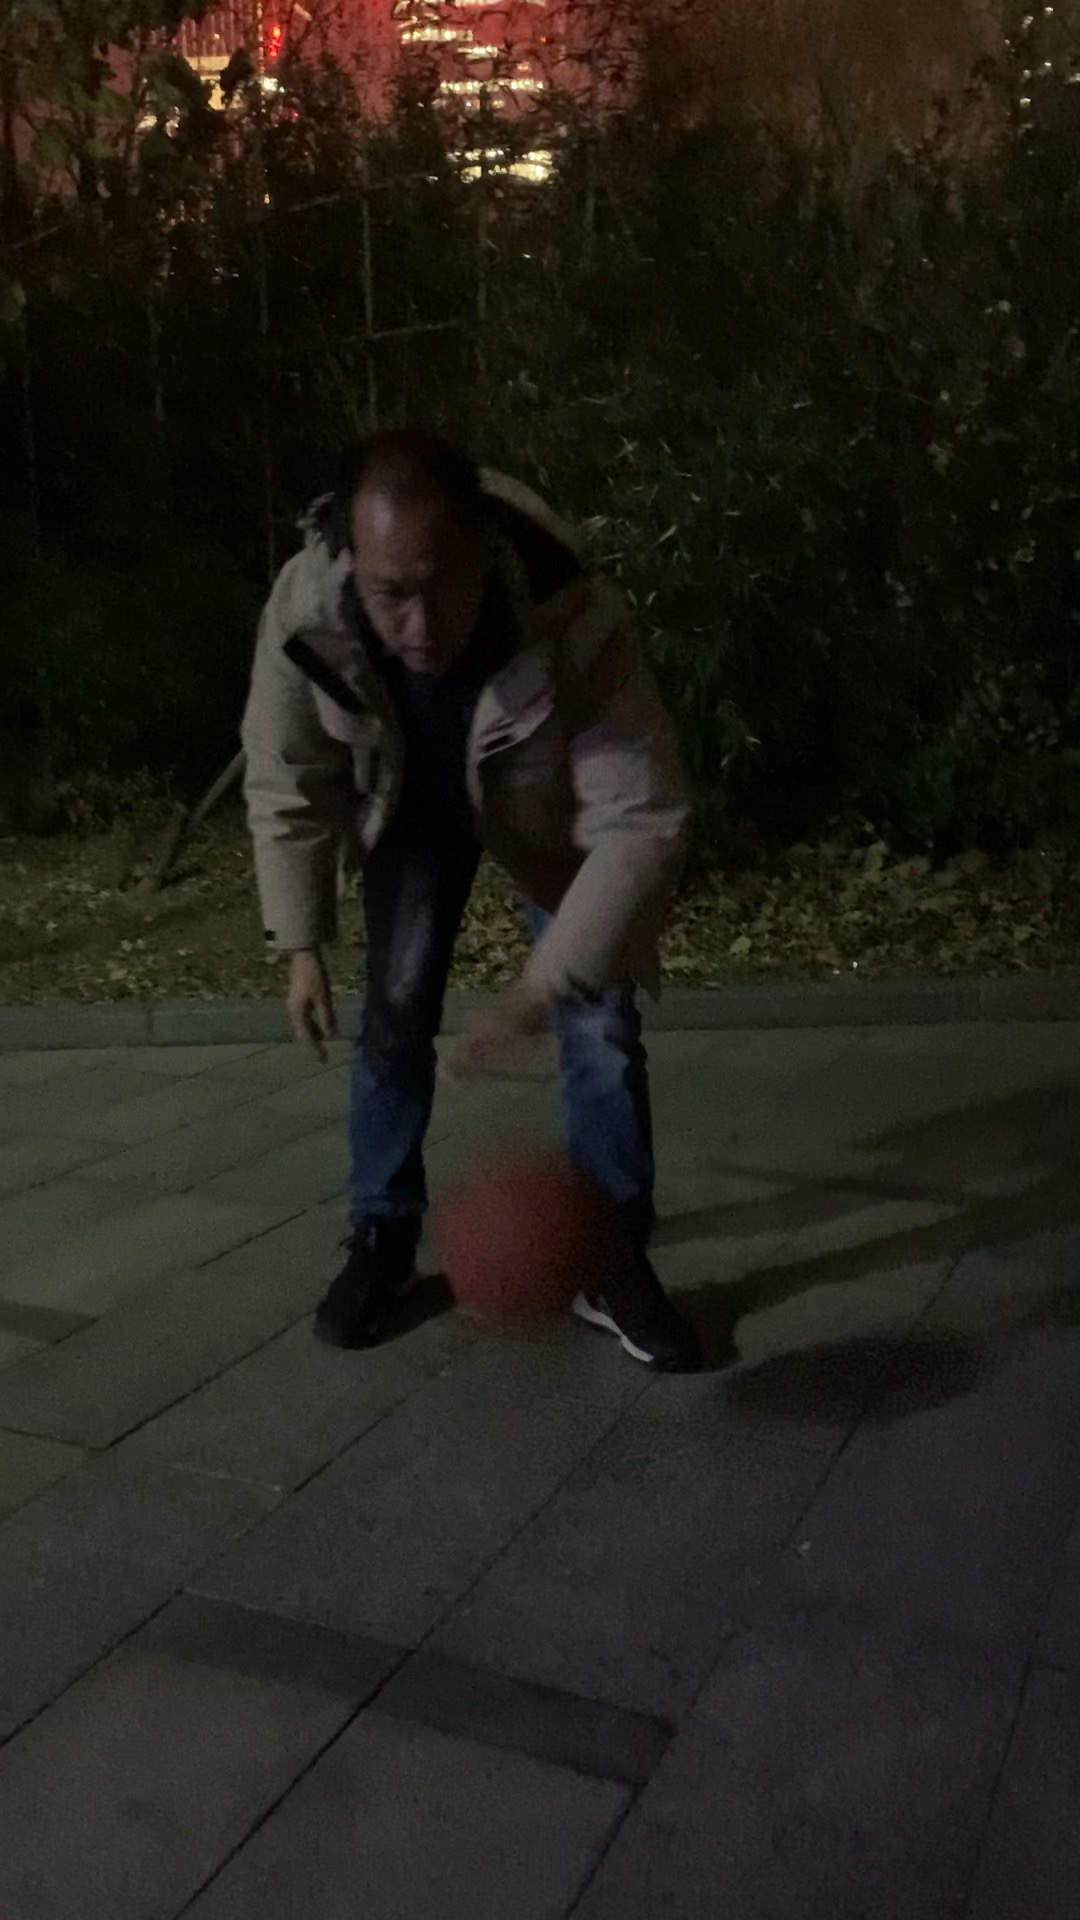ball: (446, 1156, 626, 1335)
